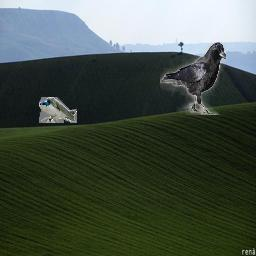Crow: (160, 43, 226, 116)
Swallow: (39, 97, 77, 123)
